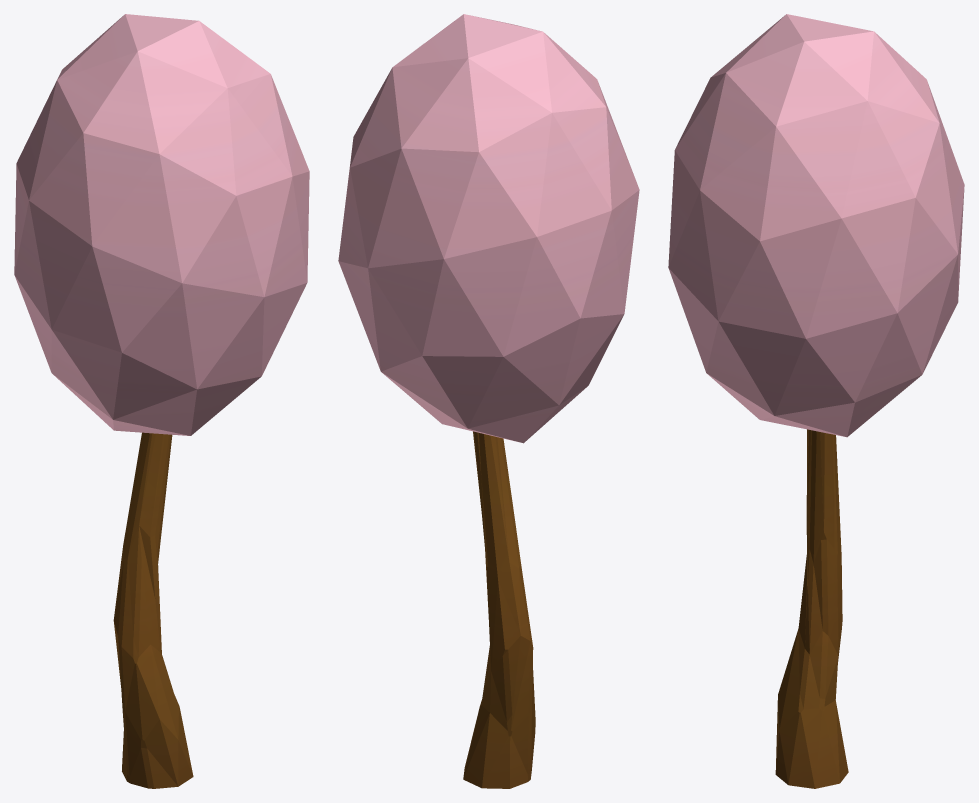
The model's file is tree_poplar.glb.
The picture shows the model from 3 angles, left to right: view 1: azimuth 30°, elevation 25°; view 2: azimuth 150°, elevation 25°; view 3: azimuth 270°, elevation 25°; orthographic projection.
Visible parts, largest first — view 1: tree_poplar; view 2: tree_poplar; view 3: tree_poplar.
Part boxes in pixels (x1,y1,x2,y2): tree_poplar: (14, 14, 309, 788); tree_poplar: (338, 14, 639, 788); tree_poplar: (668, 14, 964, 788).
Size of the model in its own units: 1.65 by 4.6 by 1.65.
Materials: 1 (1 with a texture image).
